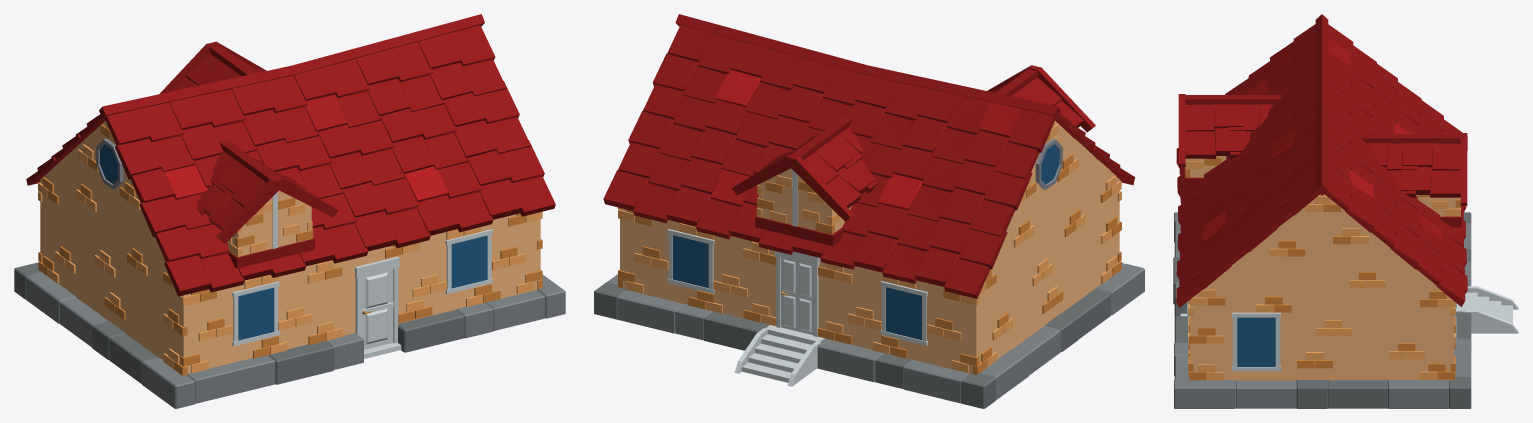
File: SM_House_3.FBX
3 renders of one model, left to right at view 1: azimuth 30°, elevation 25°; view 2: azimuth 150°, elevation 25°; view 3: azimuth 270°, elevation 25°, orthographic. The views are drawn at different scales.
Parts seen in each view (by area): view 1: SM_House_3; view 2: SM_House_3; view 3: SM_House_3.
Boxes of the visible parts, box(x1,y1,x2,y2) form: SM_House_3: box(14, 14, 565, 408); SM_House_3: box(594, 14, 1144, 408); SM_House_3: box(1173, 14, 1518, 408).
Size of what is drawn, in the model's own units: 1229 by 1020 by 726.
